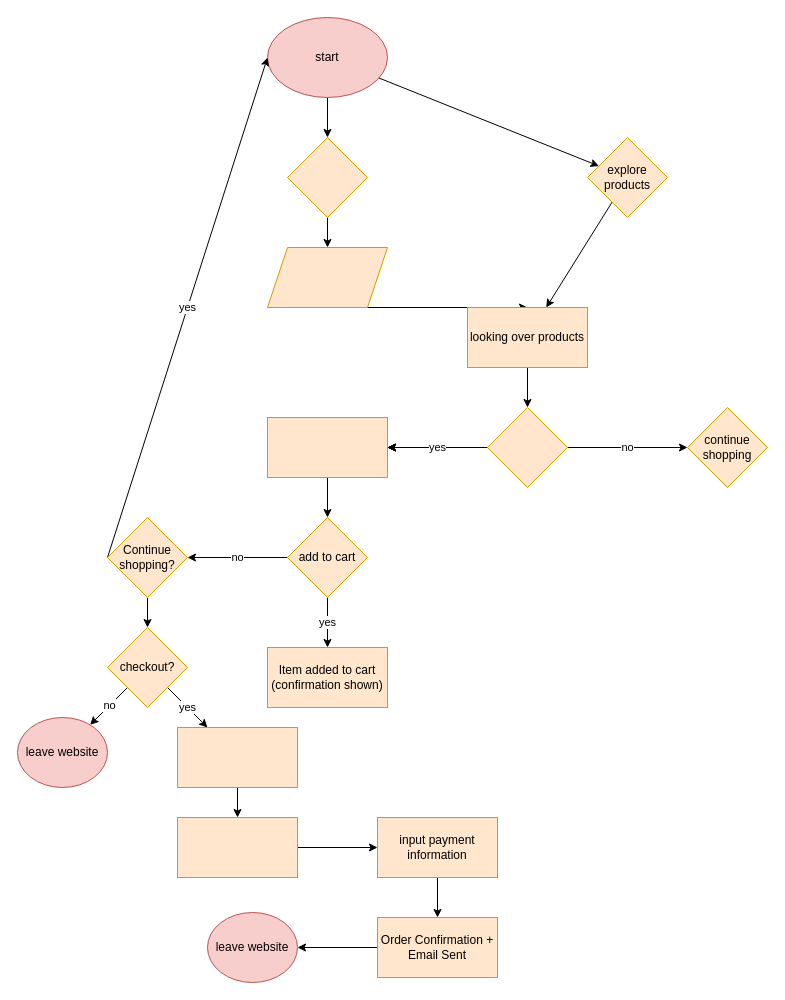
Some shapes in this 785 by 1000 pixel diagram are drawn without their labels. The centre of each missing label's shape, as x and y in pixels:
open product page: pixel 327 447
search for producr: pixel 327 177
search input: pixel 327 277
view cart: pixel 237 757
view payment: pixel 237 847
view specific product: pixel 527 447
